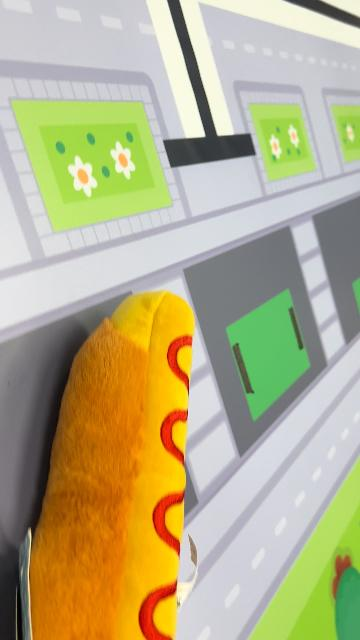hotdog: (26, 290, 197, 638)
